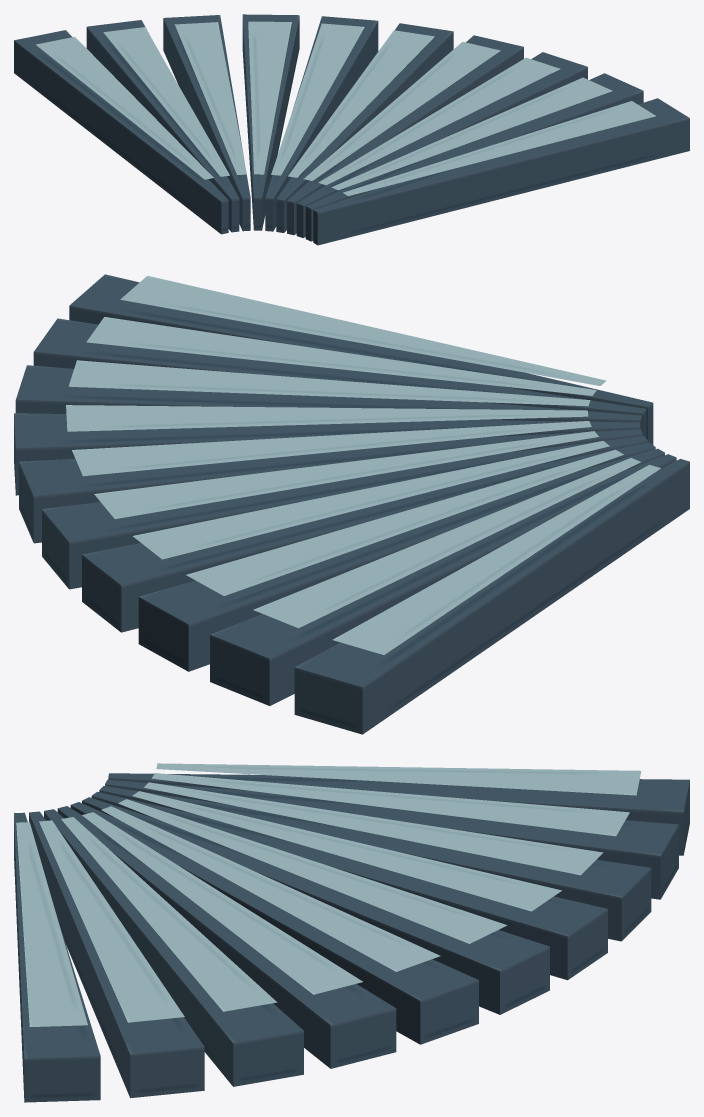
The model's file is sc_tread_curve_left_4.obj.
3 views of the same model, one above another, from view 1: azimuth 30°, elevation 25°; view 2: azimuth 150°, elevation 25°; view 3: azimuth 270°, elevation 25° (orthographic). The views are drawn at different scales.
Bounding box in the file's own units: 17.43 × 1.56 × 17.45.
1 material, 1 textured.
